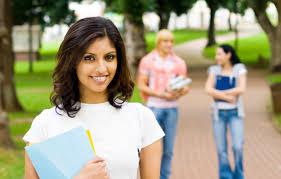Person: (27, 24, 162, 179), (201, 41, 259, 178), (146, 27, 182, 137)
